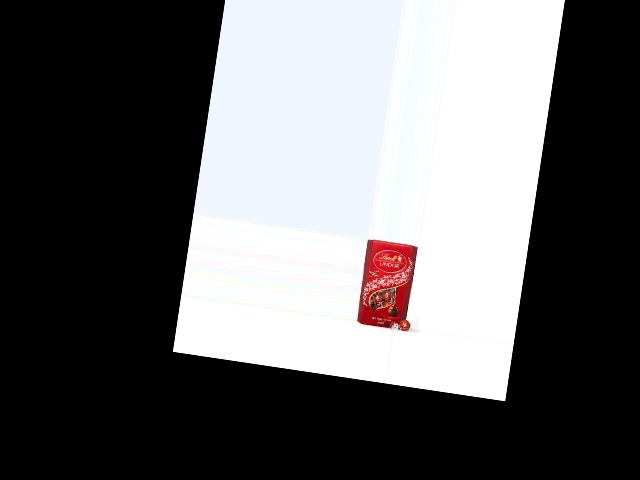chocolate: (356, 239, 423, 331)
